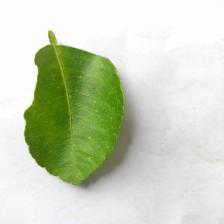greening: (40, 58, 128, 172)
